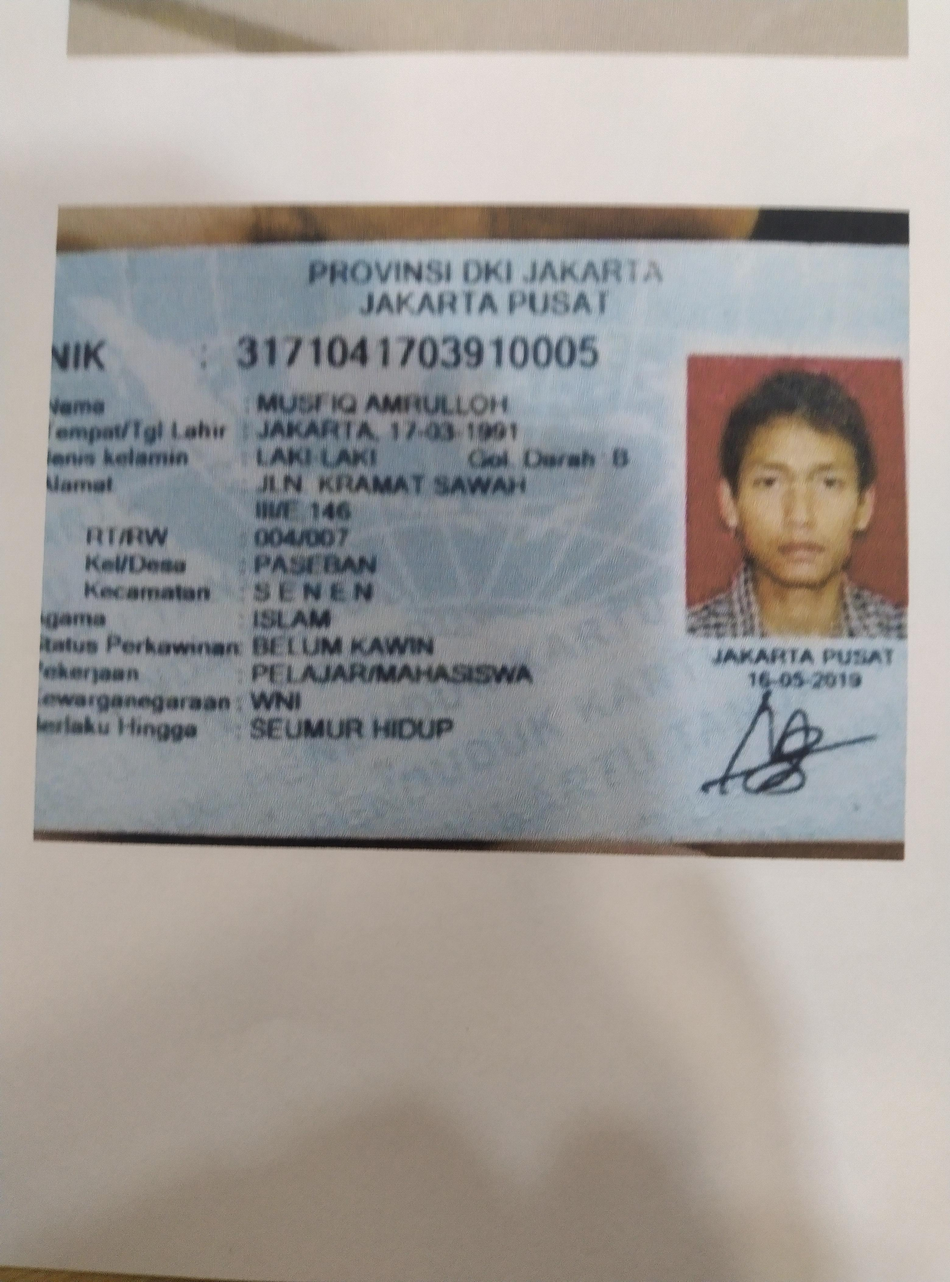ktp: (33, 245, 908, 839)
